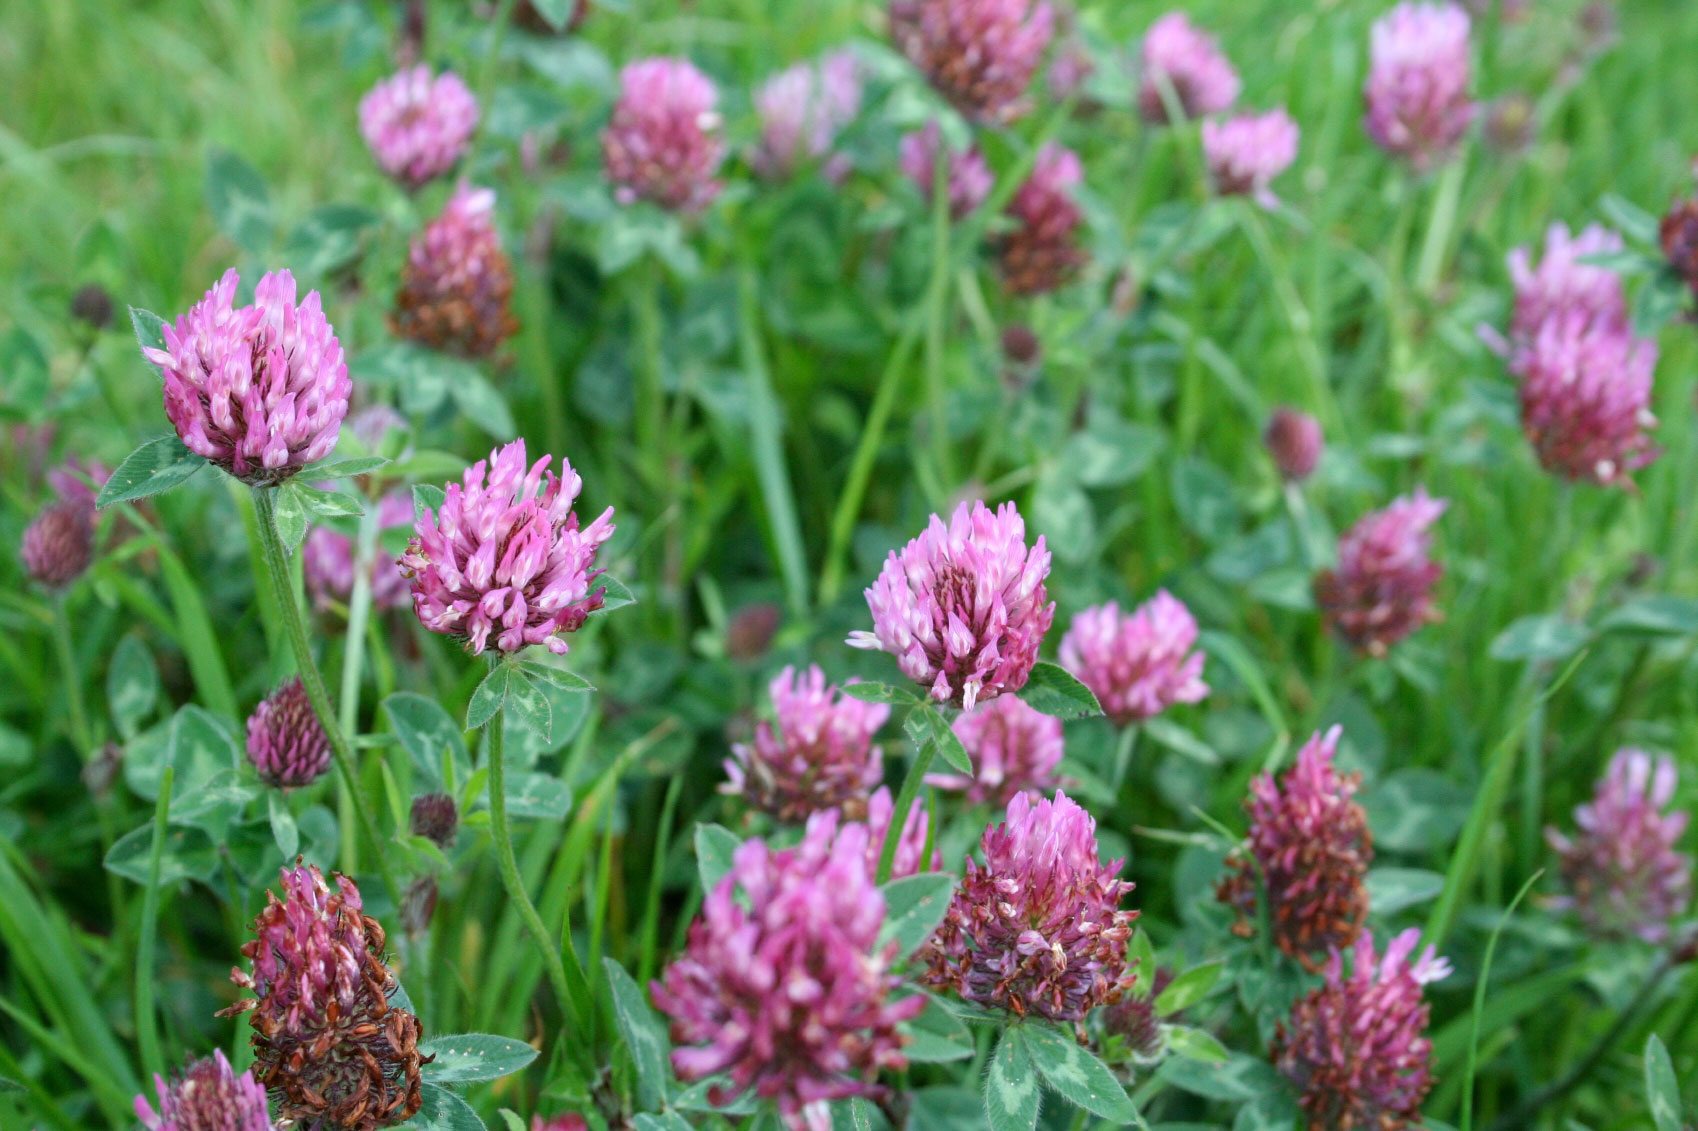clover: (42, 25, 1645, 1108)
